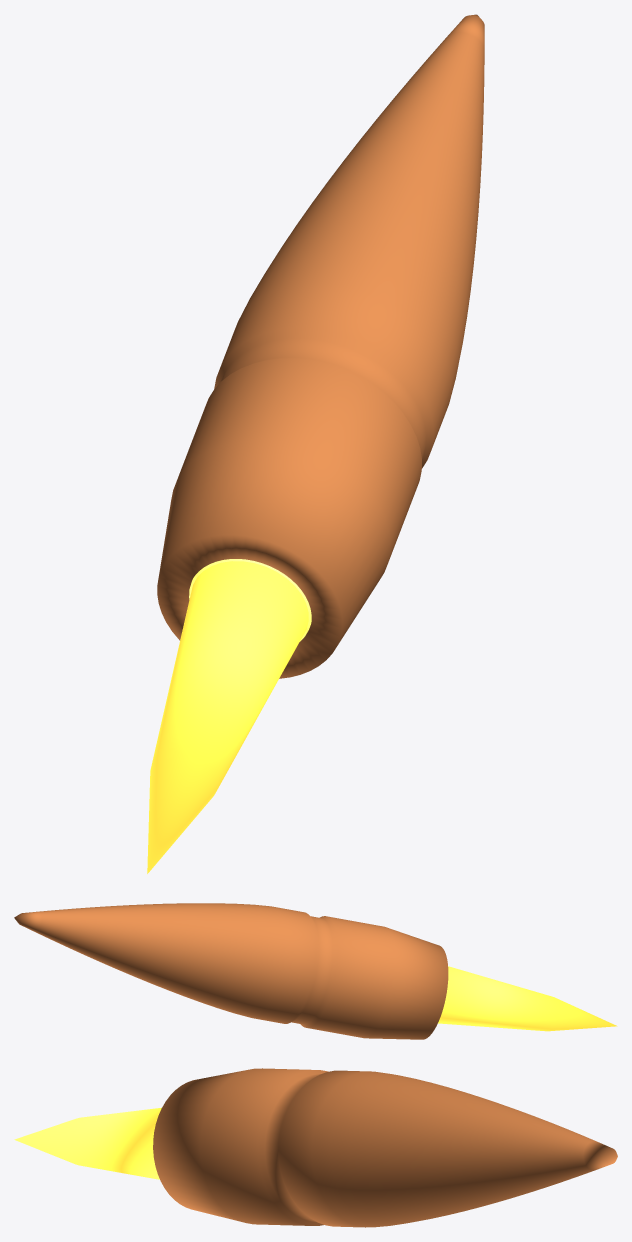
Rendered from Mermi_Ucan_Tracer_Projectile.glb.
3 renders of one model, top to bottom at view 1: azimuth 30°, elevation 25°; view 2: azimuth 150°, elevation 25°; view 3: azimuth 270°, elevation 25°, orthographic. The views are drawn at different scales.
Visible parts, largest first — view 1: Mermi_Ucan_Tracer_Projectile_Body, Mermi_Ucan_Tracer_Projectile_Streak; view 2: Mermi_Ucan_Tracer_Projectile_Body, Mermi_Ucan_Tracer_Projectile_Streak; view 3: Mermi_Ucan_Tracer_Projectile_Body, Mermi_Ucan_Tracer_Projectile_Streak.
Part boxes in pixels (x1,y1,x2,y2): Mermi_Ucan_Tracer_Projectile_Body: (157,14,484,678); Mermi_Ucan_Tracer_Projectile_Streak: (147,561,308,873); Mermi_Ucan_Tracer_Projectile_Body: (14,903,448,1039); Mermi_Ucan_Tracer_Projectile_Streak: (438,966,617,1031); Mermi_Ucan_Tracer_Projectile_Body: (153,1068,617,1227); Mermi_Ucan_Tracer_Projectile_Streak: (14,1107,161,1179).
Bounding box in the file's own units: 0.0306 × 0.0136 × 0.0302.
